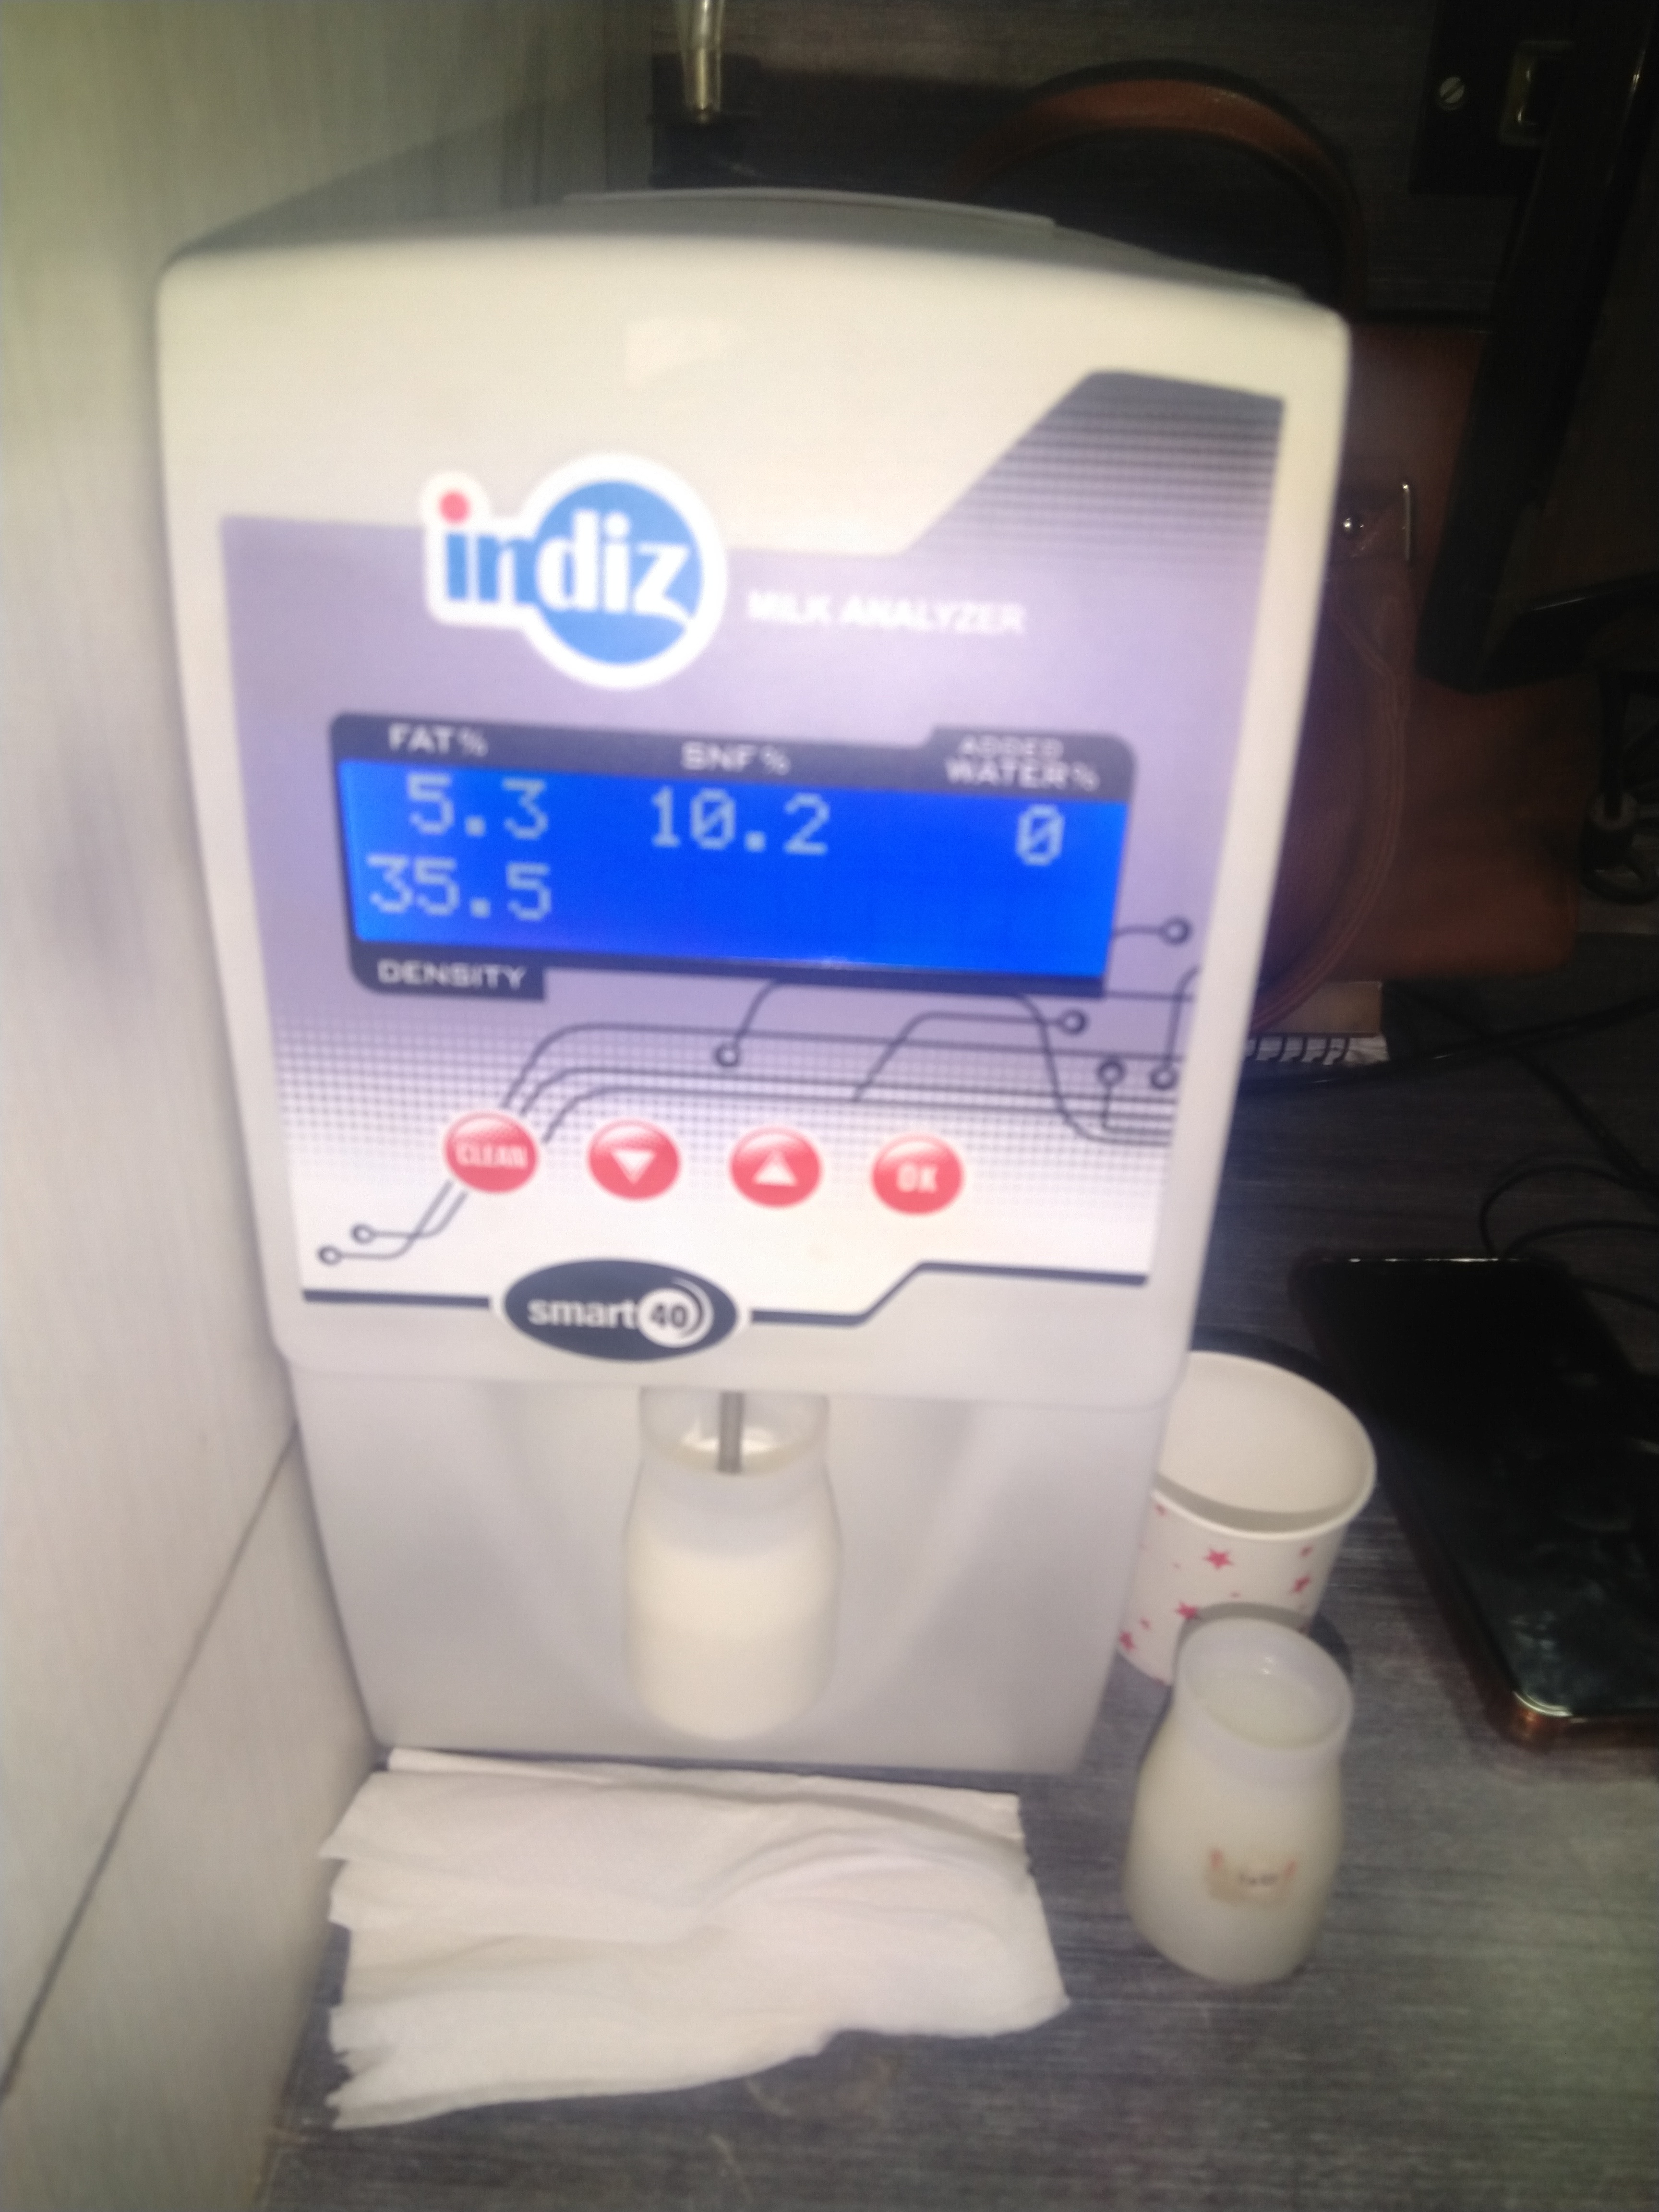lcd: (333, 728, 1136, 996)
